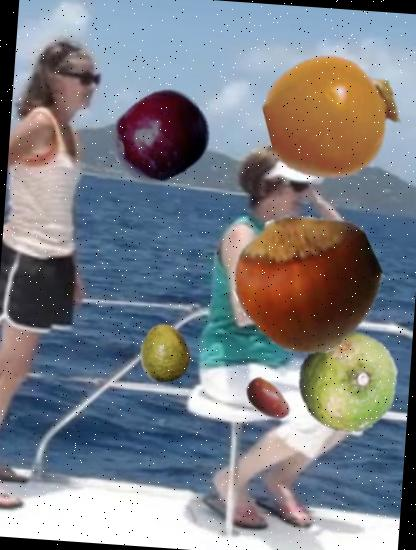Guava: (134, 320, 196, 383)
Limes: (292, 324, 404, 436)
Nut: (231, 205, 385, 359)
Physalis: (262, 44, 406, 188)
Plum: (107, 83, 214, 190)
Potato: (241, 372, 295, 426)
